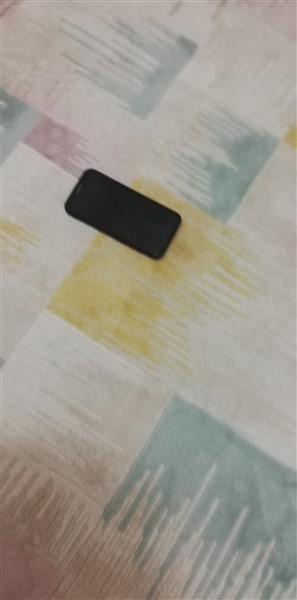telefon: (60, 159, 187, 268)
